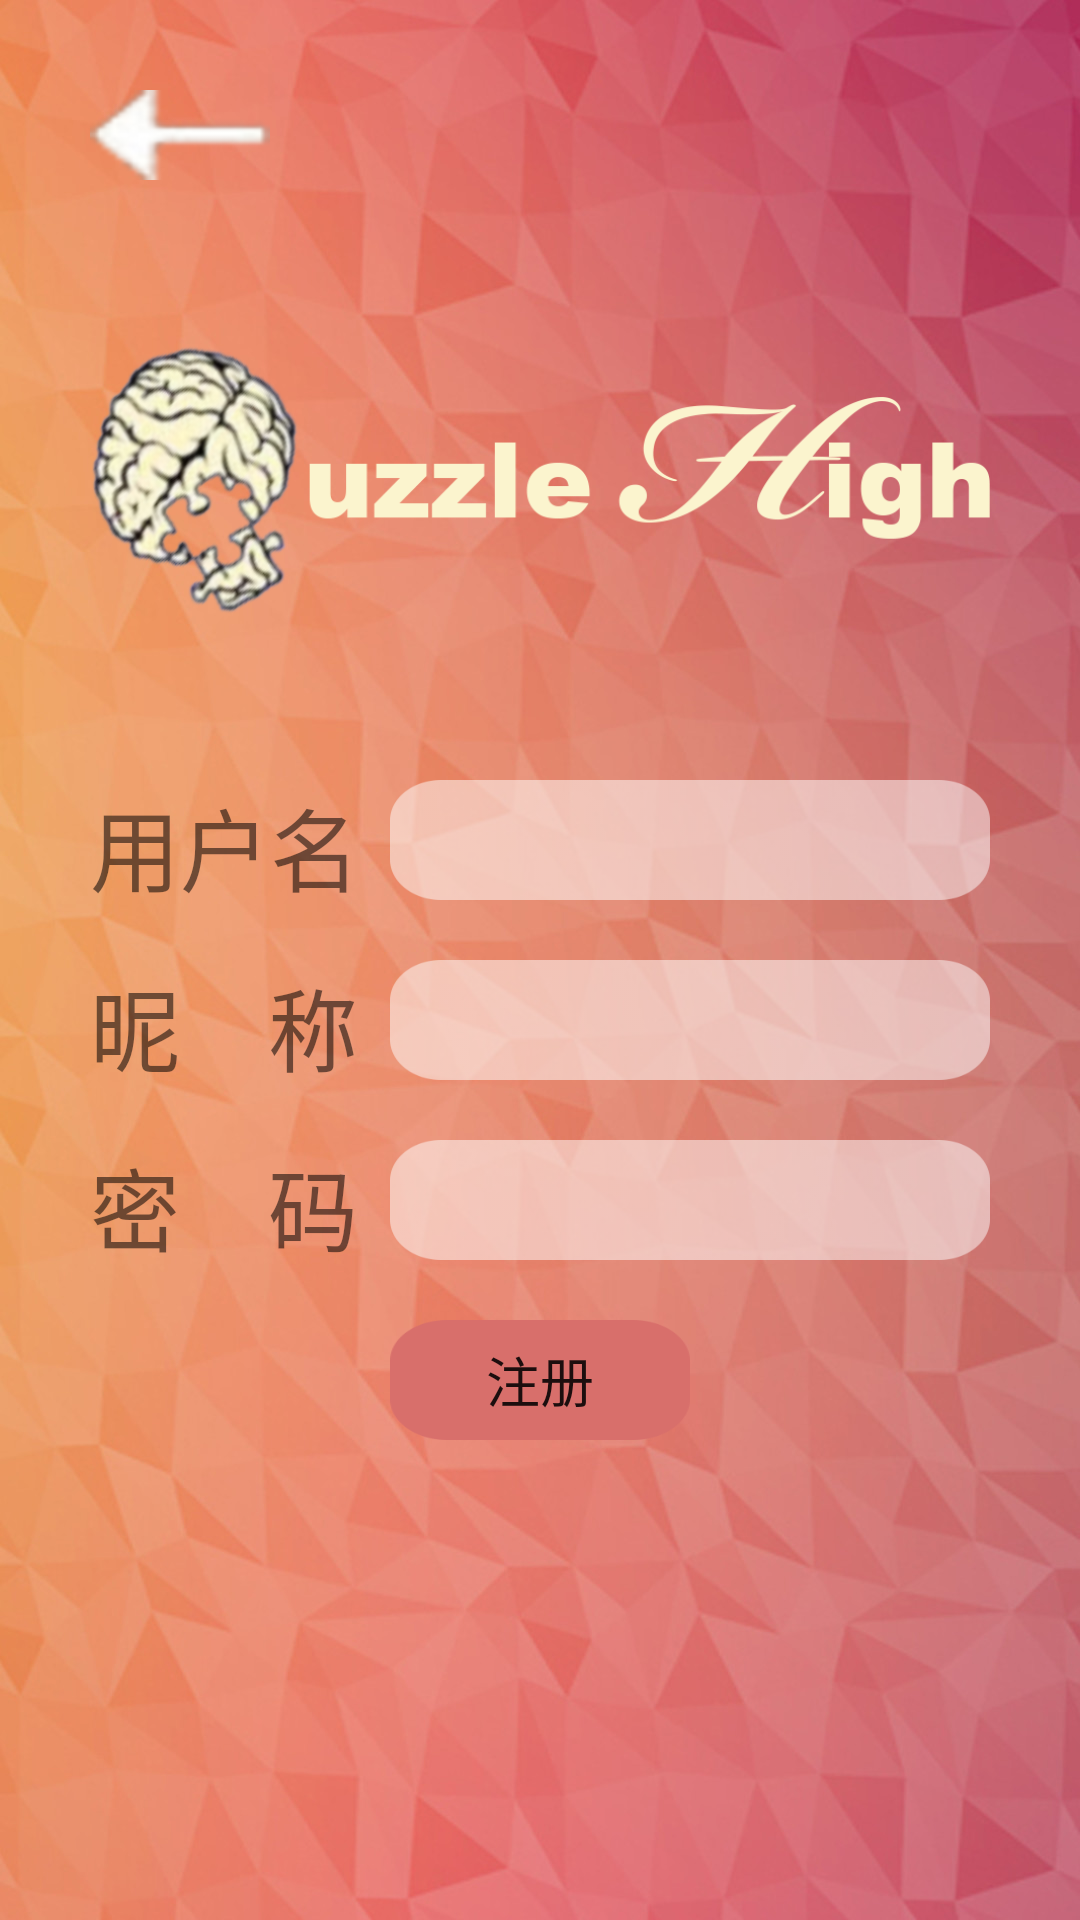

Icons on this 1080px x 1920px Android screen, each with the point to tap as point (x, y):
back: point (180, 135)
